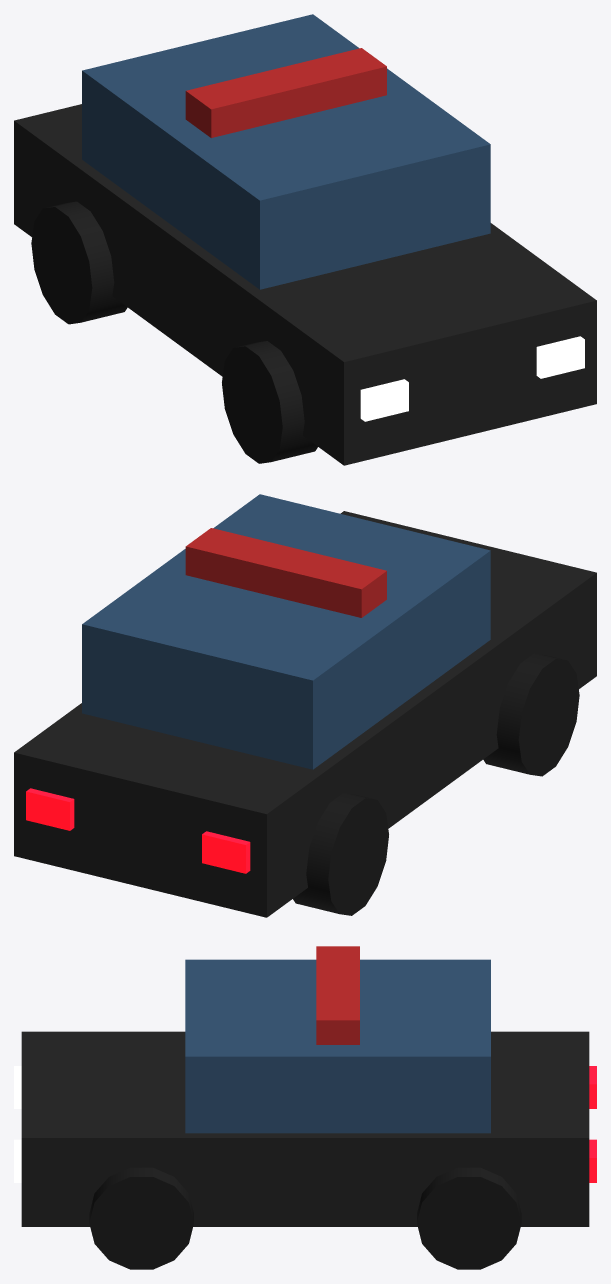
Rendered from police_car.glb.
3 views of the same model, one above another, from view 1: azimuth 30°, elevation 25°; view 2: azimuth 150°, elevation 25°; view 3: azimuth 270°, elevation 25° (orthographic). The views are drawn at different scales.
Bounding box in the file's own units: 2.7 × 2.26 × 5.34.
